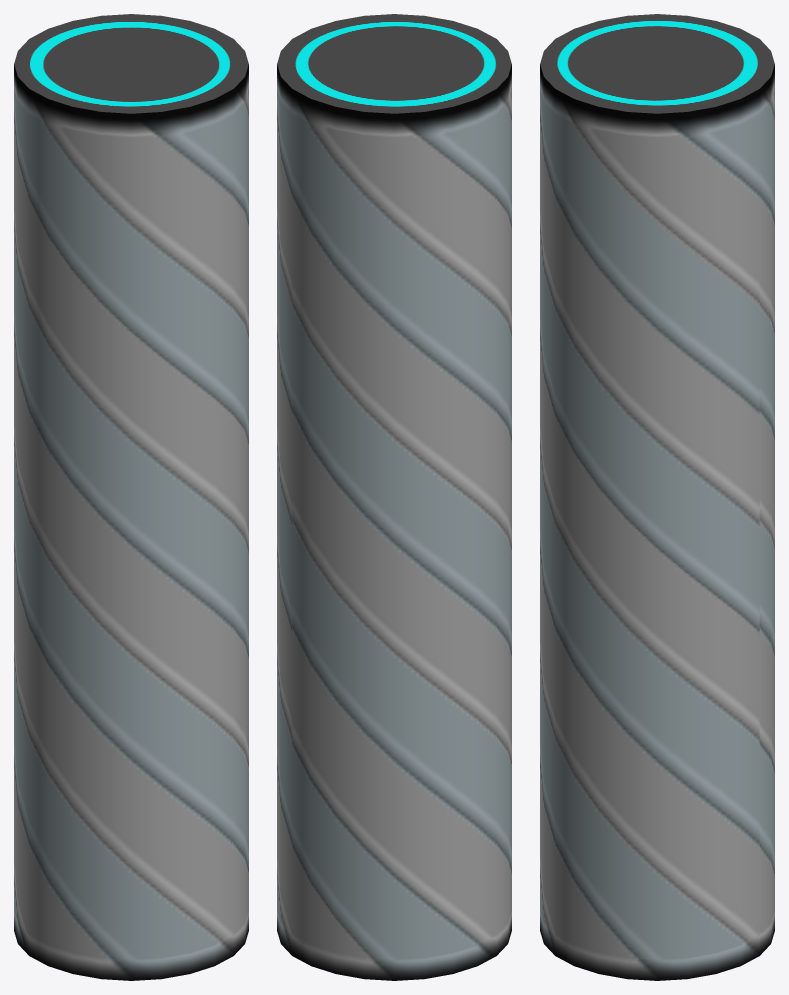
Rendered from handle_500.fbx.
3 renders of one model, left to right at view 1: azimuth 30°, elevation 25°; view 2: azimuth 150°, elevation 25°; view 3: azimuth 270°, elevation 25°, orthographic.
Visible parts, largest first — view 1: handle_500; view 2: handle_500; view 3: handle_500.
Part boxes in pixels (x1=…): handle_500: x1=14, y1=14, x2=248, y2=980; handle_500: x1=277, y1=14, x2=511, y2=980; handle_500: x1=540, y1=14, x2=774, y2=980.
Bounding box in the file's own units: 1.69 × 6.84 × 1.68.
